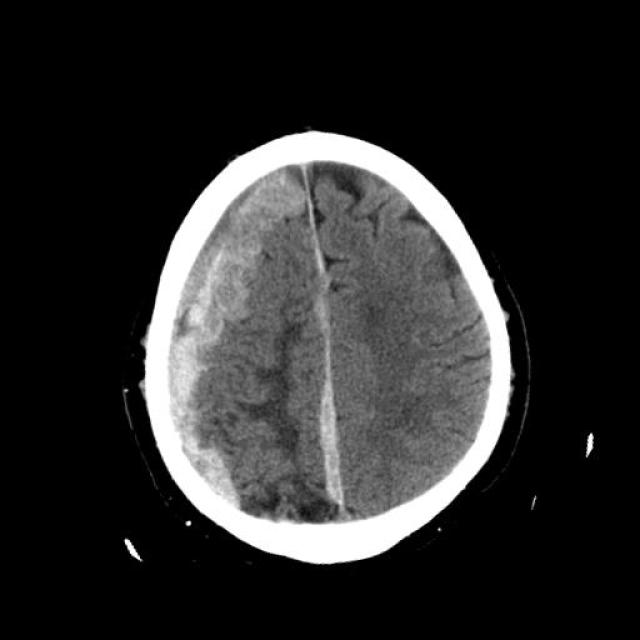Subdural: (68, 163, 376, 531), (259, 332, 392, 540)
